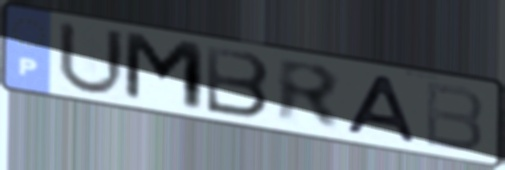A: (342, 71, 422, 146)
B: (203, 43, 273, 122), (421, 78, 487, 155)
M: (121, 28, 209, 117)
R: (274, 54, 345, 135)
U: (54, 17, 129, 99)
